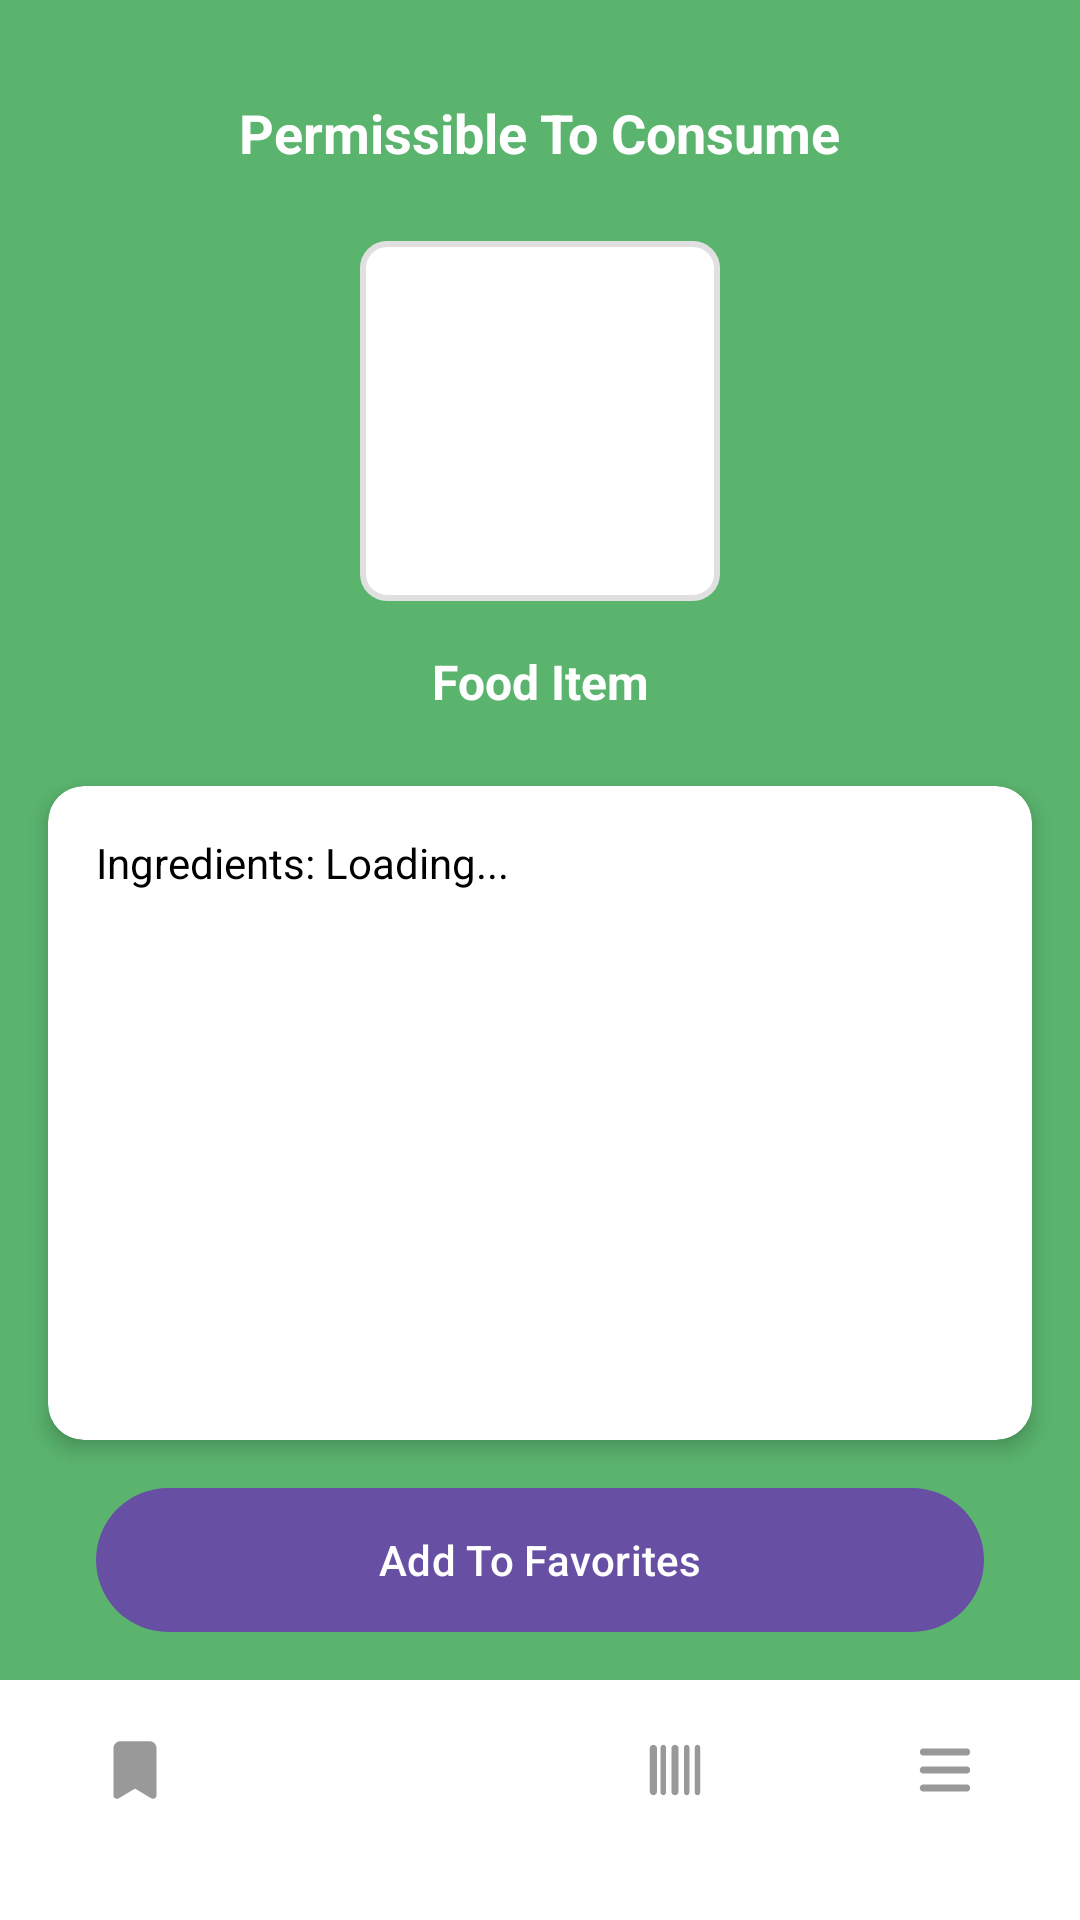

Where to tap for icons on this 1080 x 1920 app screen, as point (x, y):
barcode: point (675, 1769)
bookmark: point (135, 1770)
menu: point (945, 1770)
